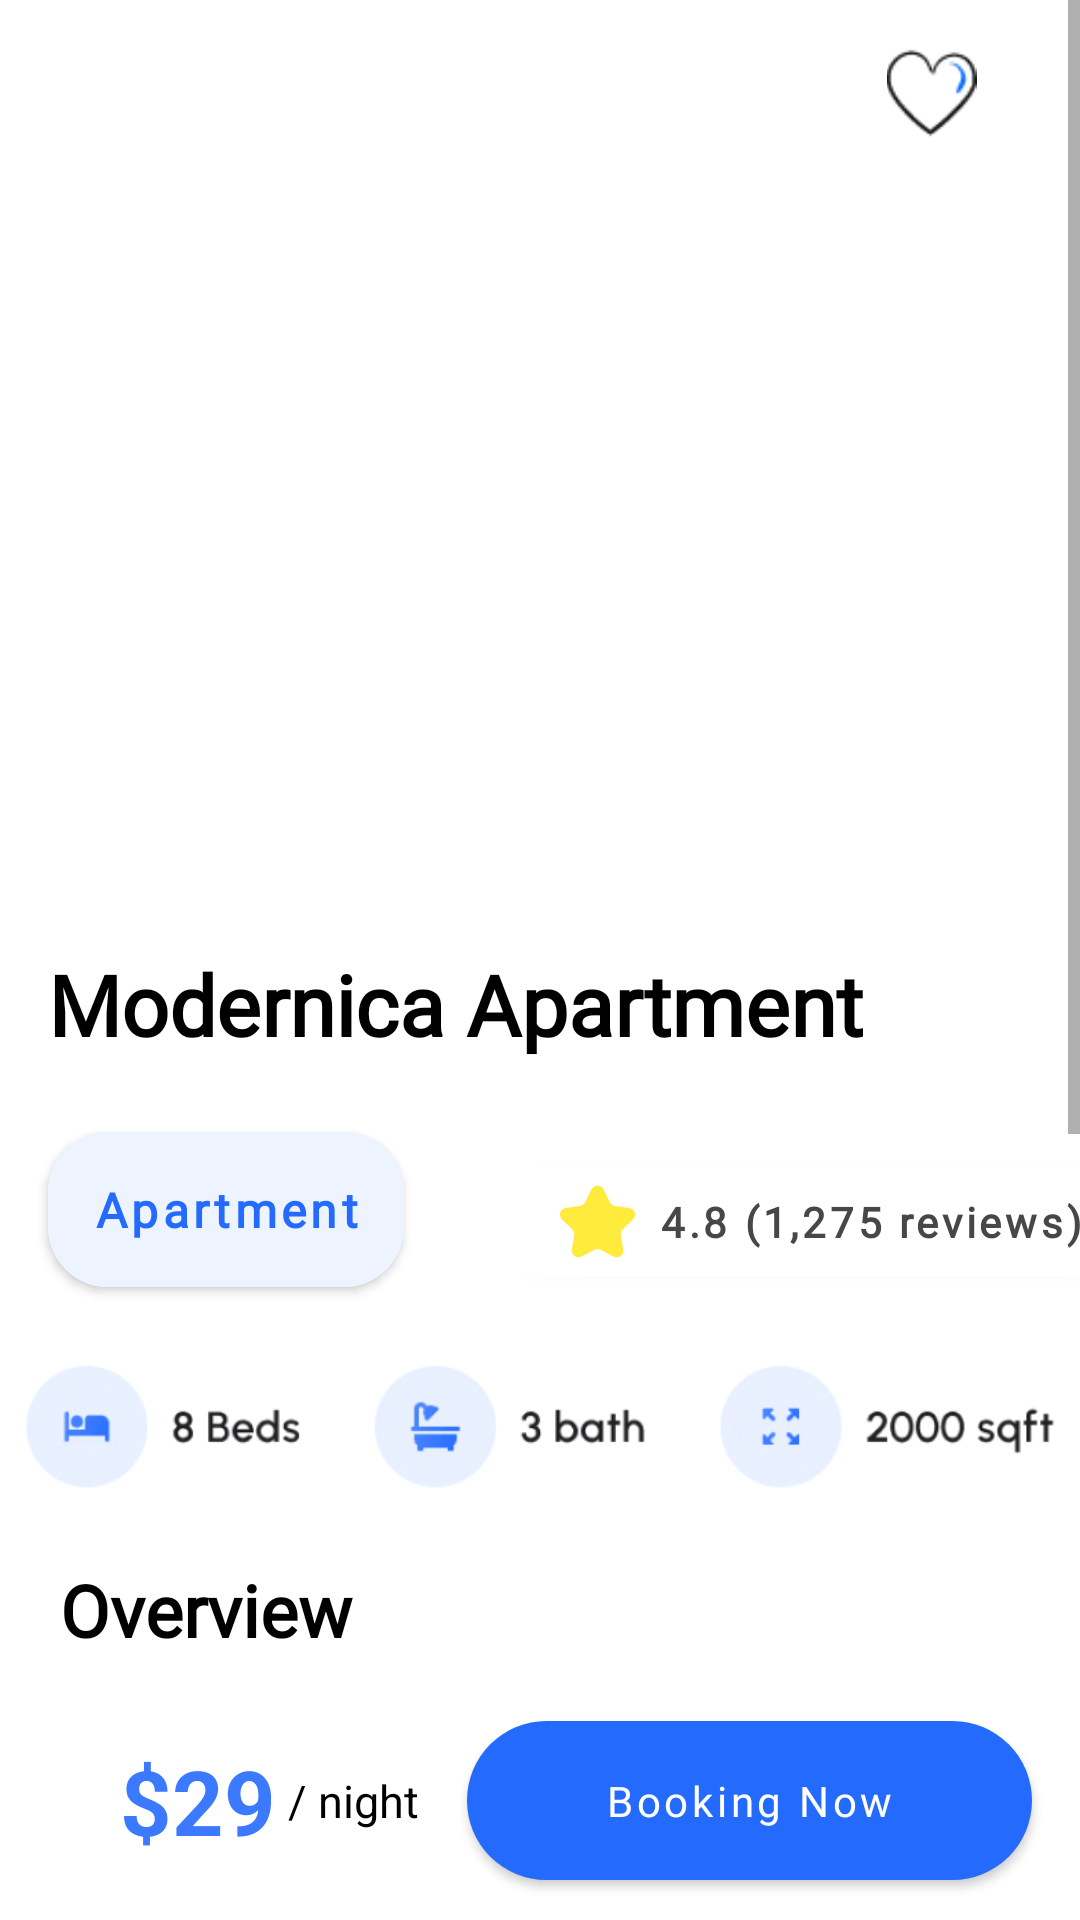

Point at icon controls on the screen. Image size 1080 × 1920, points as point (x, y).
heart org: point (932, 93)
